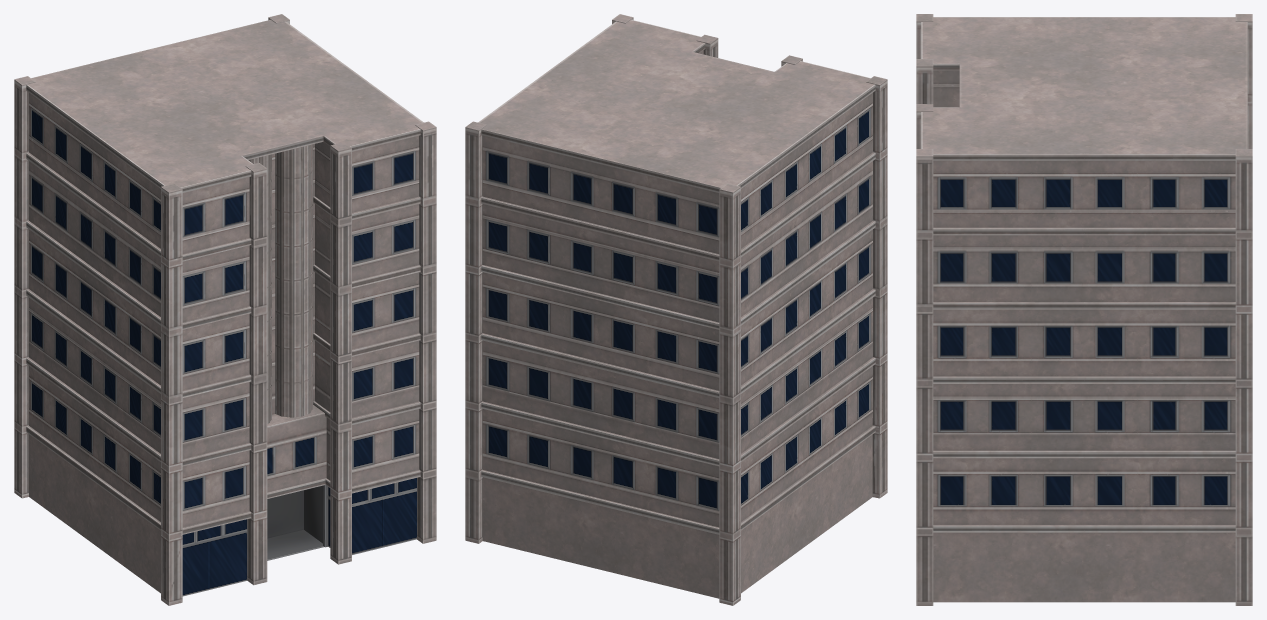
File: sb_obj_ModernCity004_buil_b1.fbx
The picture shows the model from 3 angles, left to right: view 1: azimuth 30°, elevation 25°; view 2: azimuth 150°, elevation 25°; view 3: azimuth 270°, elevation 25°; orthographic projection. The views are drawn at different scales.
Visible parts, largest first — view 1: sb_obj_ModernCity004_buil_b1; view 2: sb_obj_ModernCity004_buil_b1; view 3: sb_obj_ModernCity004_buil_b1.
Part boxes in pixels (x1,y1,x2,y2): sb_obj_ModernCity004_buil_b1: (14,14,436,605); sb_obj_ModernCity004_buil_b1: (465,14,887,605); sb_obj_ModernCity004_buil_b1: (916,14,1252,605).
Size of the model in its own units: 6.78 by 10 by 6.78.
